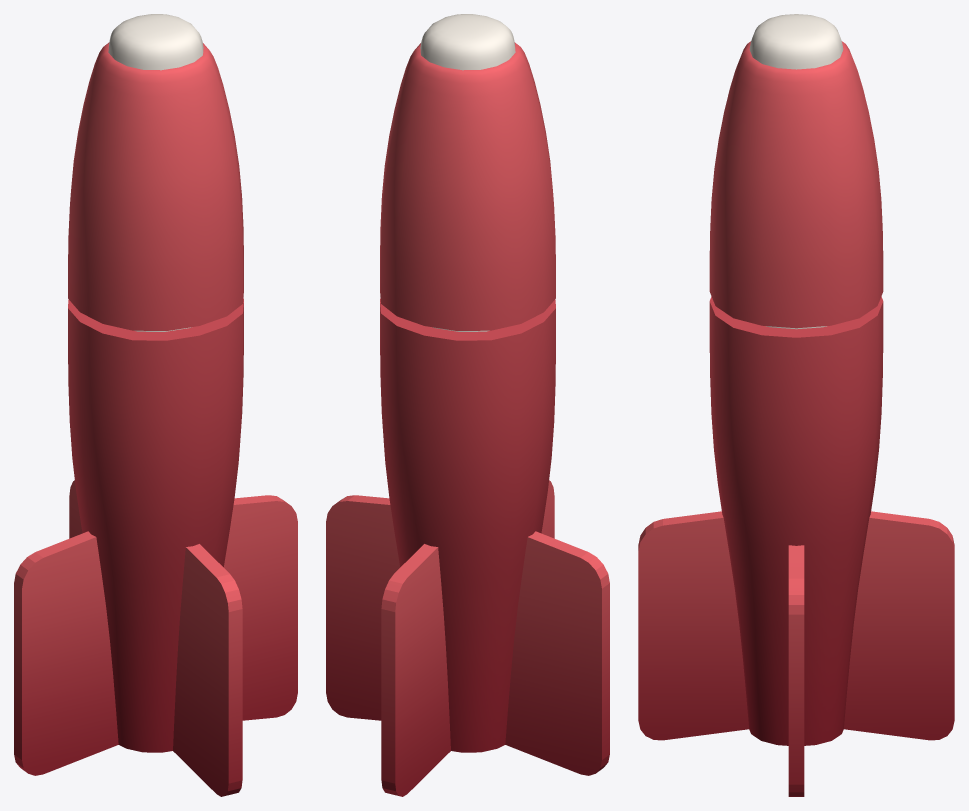
Rendered from rockets.fbx.
The picture shows the model from 3 angles, left to right: view 1: azimuth 30°, elevation 25°; view 2: azimuth 150°, elevation 25°; view 3: azimuth 270°, elevation 25°; orthographic projection.
Parts seen in each view (by area): view 1: Cube, Cube.002, Cube.001; view 2: Cube, Cube.002, Cube.001; view 3: Cube, Cube.001, Cube.002.
Boxes of the visible parts, bbox=[...] form: Cube: bbox=[68, 14, 243, 752]; Cube.002: bbox=[14, 495, 297, 775]; Cube.001: bbox=[69, 480, 242, 796]; Cube: bbox=[380, 14, 555, 752]; Cube.002: bbox=[326, 495, 609, 775]; Cube.001: bbox=[381, 480, 554, 796]; Cube: bbox=[709, 14, 883, 745]; Cube.001: bbox=[638, 511, 954, 740]; Cube.002: bbox=[788, 545, 804, 796].
Bounding box in the file's own units: 20 × 49.73 × 20.
